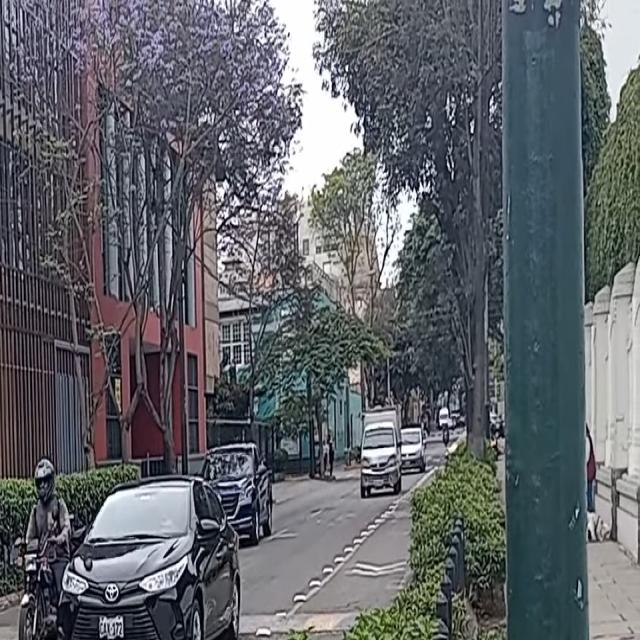car: (56, 475, 241, 640), (199, 445, 272, 540), (398, 428, 428, 471), (438, 406, 450, 426)
motorcycle: (13, 525, 78, 640)
truck: (361, 412, 402, 494)
